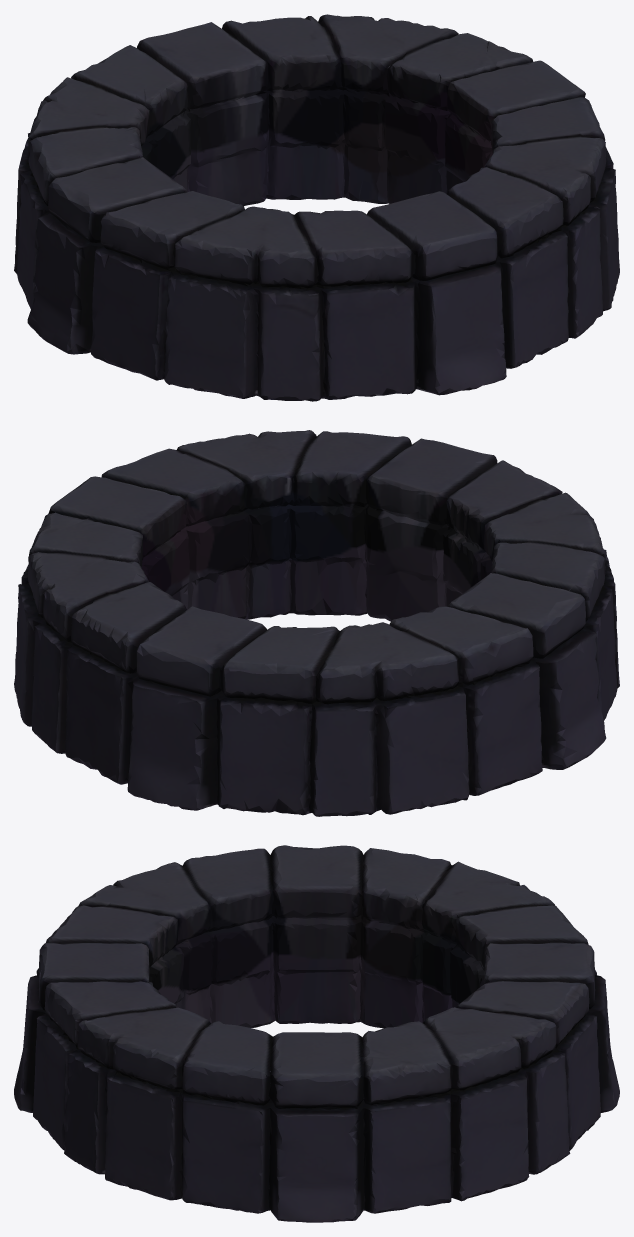
Rendered from rodin_Forge_ArchGate_raw.glb.
The picture shows the model from 3 angles, top to bottom: view 1: azimuth 30°, elevation 25°; view 2: azimuth 150°, elevation 25°; view 3: azimuth 270°, elevation 25°; orthographic projection. The views are drawn at different scales.
Parts seen in each view (by area): view 1: model; view 2: model; view 3: model.
Boxes of the visible parts, x1,y1,x2,y2 form: model: (14,14,619,401); model: (14,430,619,816); model: (14,845,619,1222).
Size of the model in its own units: 1.89 by 0.47 by 1.89.
1 material, 1 textured.
